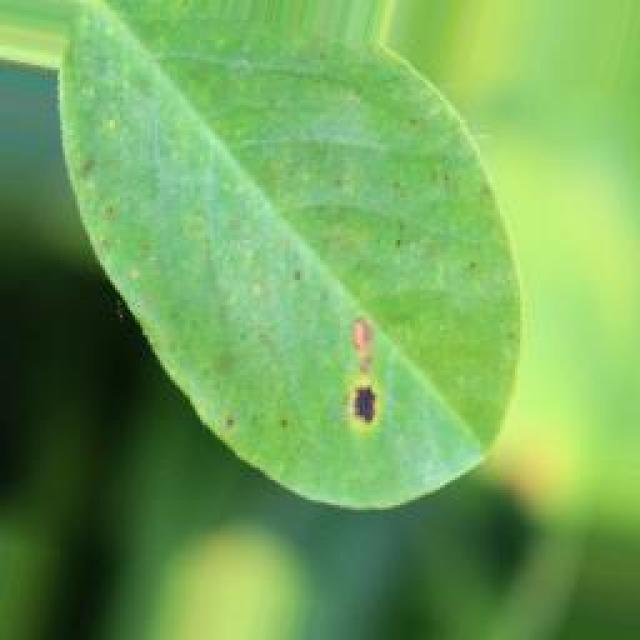Yellowish: (318, 296, 426, 474)
